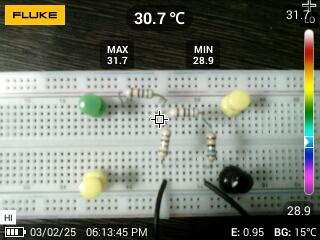resistor: (156, 128, 175, 160), (123, 86, 158, 101), (204, 130, 219, 163), (166, 105, 201, 119)
